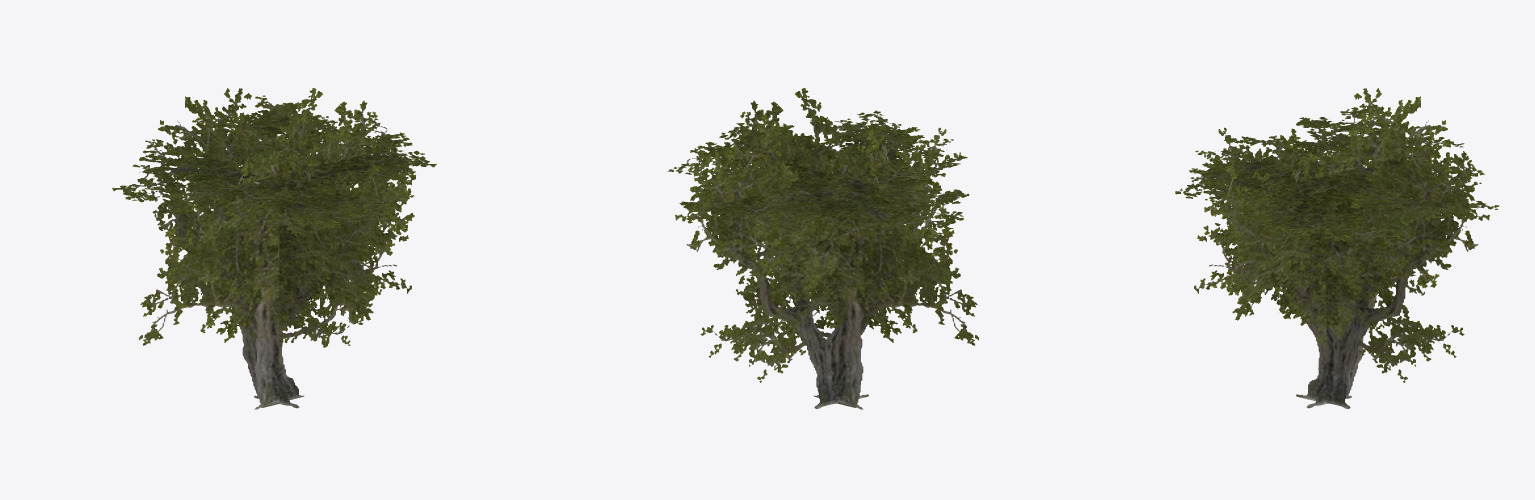
The picture shows the model from 3 angles, left to right: view 1: azimuth 30°, elevation 25°; view 2: azimuth 150°, elevation 25°; view 3: azimuth 270°, elevation 25°; orthographic projection.
Parts seen in each view (by area): view 1: tree; view 2: tree; view 3: tree.
Part boxes in pixels (<box>): tree: <box>112,88,436,409</box>; tree: <box>667,88,978,409</box>; tree: <box>1175,88,1499,408</box>.
Size of the model in its own units: 5.74 by 5.03 by 5.74.
Materials: 1 (1 with a texture image).
